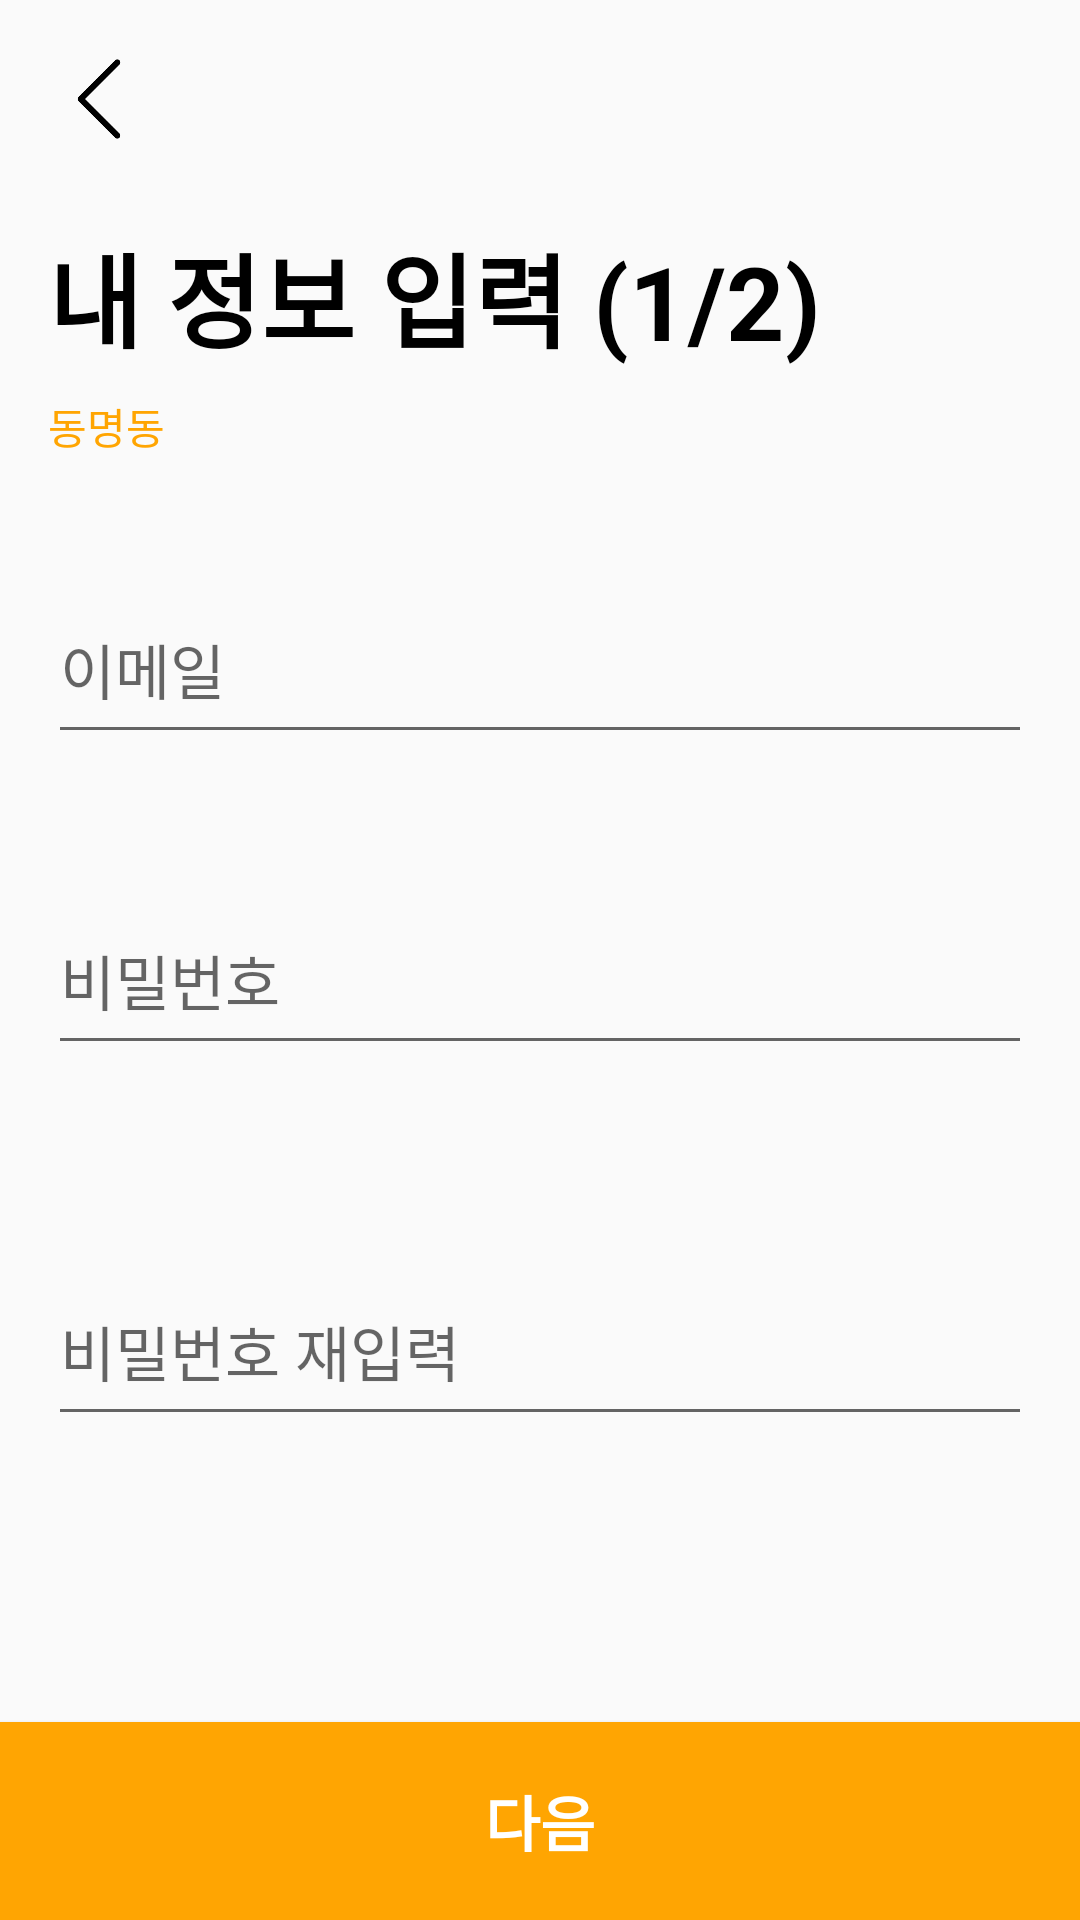

Named icons in this screenshot (1080w x 1920h) and their bounding boxes, (x1, y1, x2, y2):
back: (78, 59, 121, 139)
